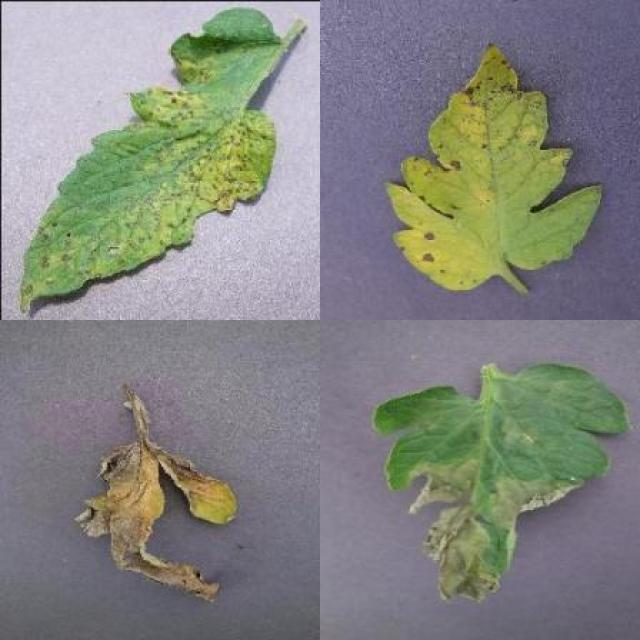Late Blight: (372, 362, 632, 608), (80, 438, 237, 602)
Septoria: (18, 8, 276, 312), (386, 37, 605, 293)
